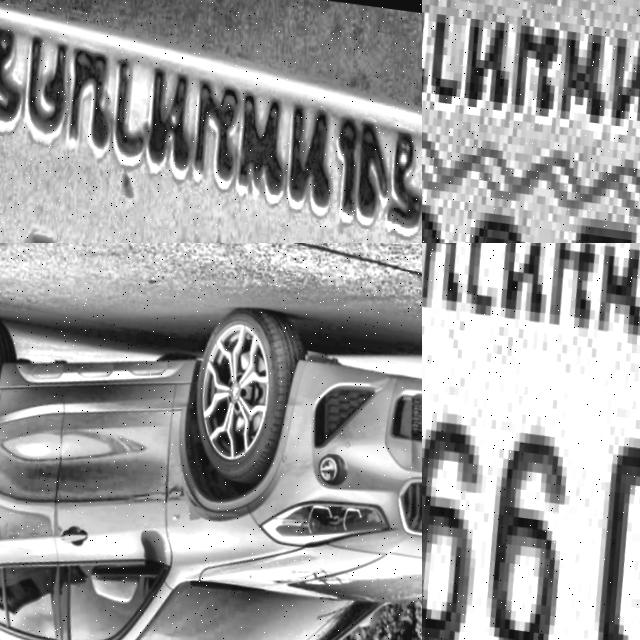license-plate: (0, 0, 422, 243), (422, 243, 640, 640), (422, 0, 640, 243)
